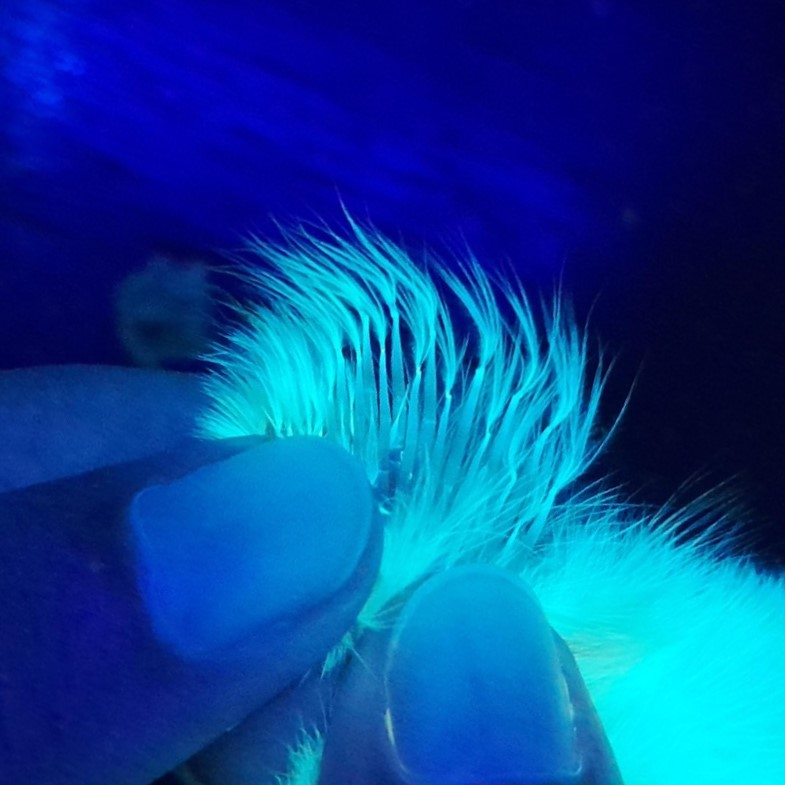female: (322, 294, 566, 567)
